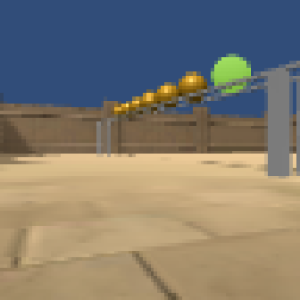goodGoal: (211, 55, 250, 96)
goodGoalMulti: (177, 71, 205, 107), (157, 82, 178, 107), (141, 91, 157, 109), (122, 101, 138, 116), (112, 105, 126, 120), (132, 97, 145, 112)
wall: (265, 68, 295, 177), (95, 115, 115, 160)
